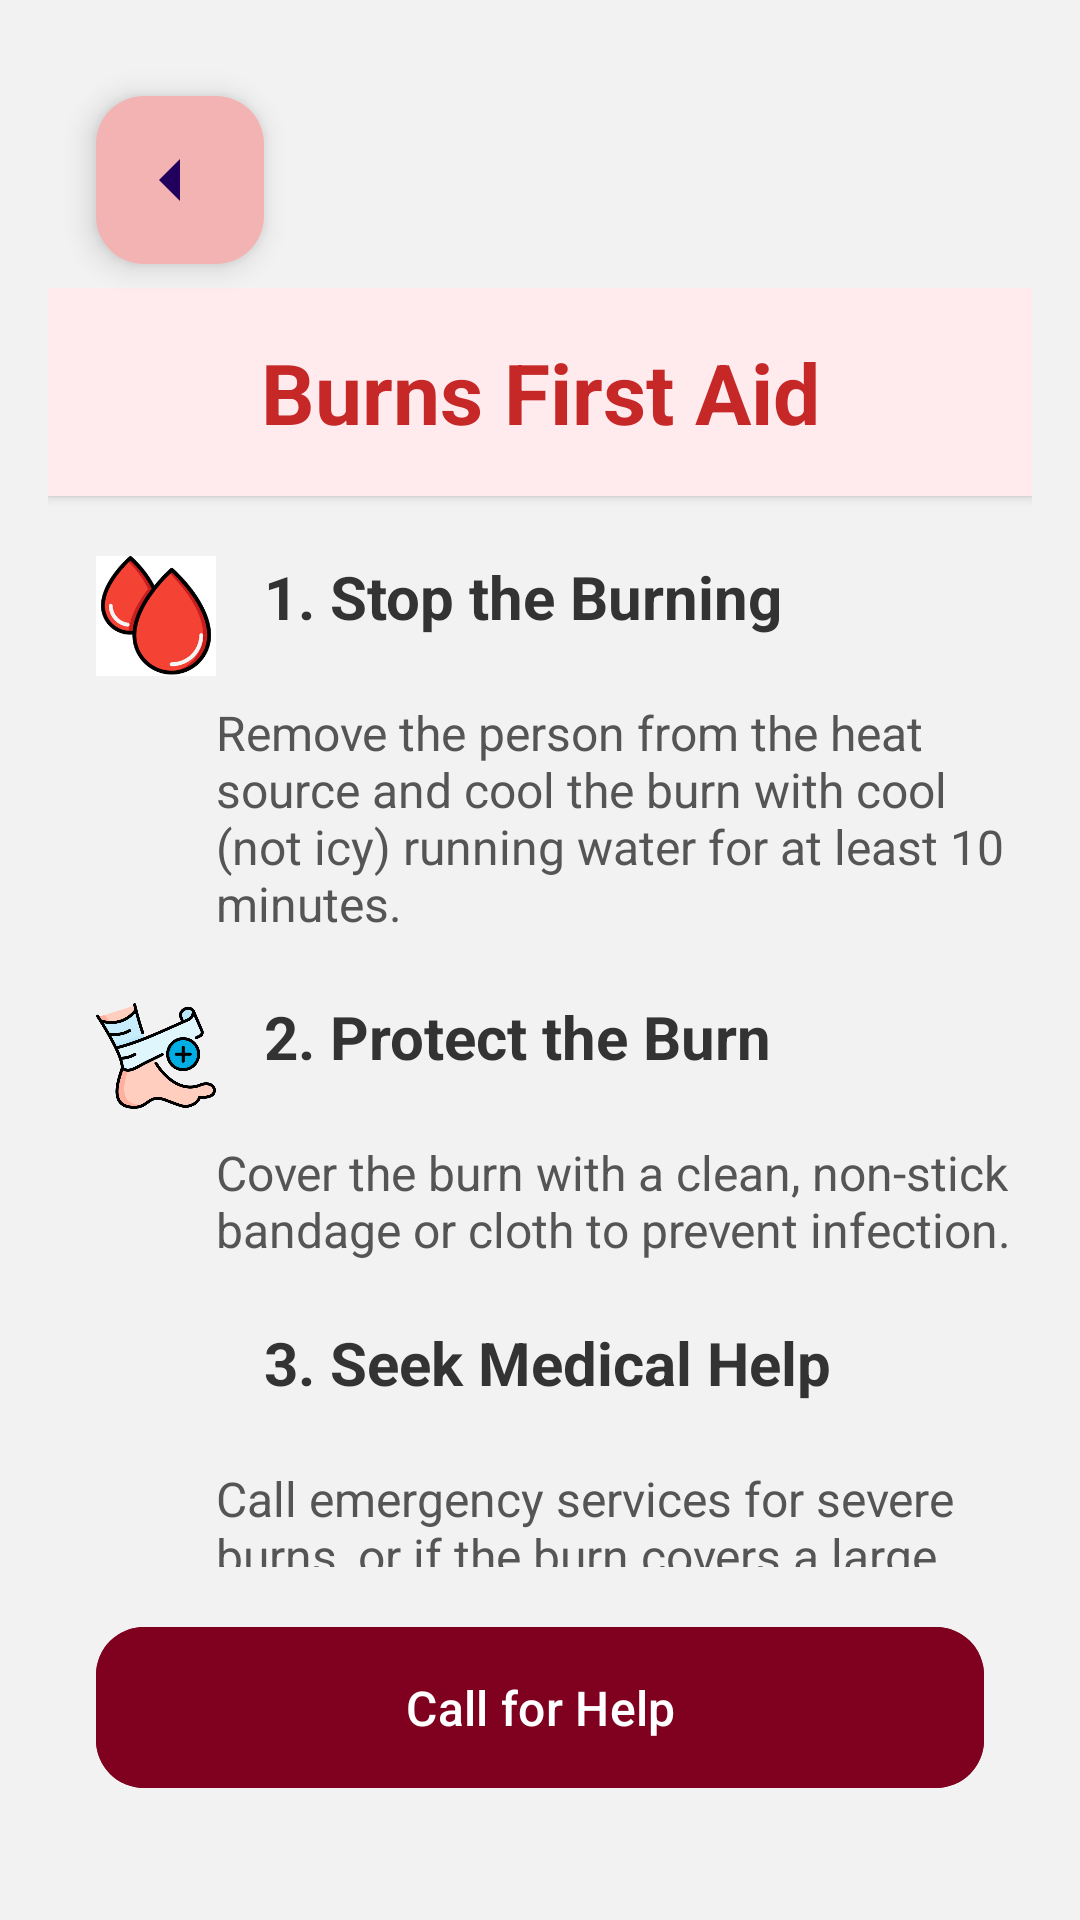

Named icons in this screenshot (1080px x 1920px) and their bounding boxes, (x1=x1, y1=y1, x2=x2, y2=y2):
Back Button: (x1=96, y1=96, x2=264, y2=264)
Clean the Wound Icon: (x1=96, y1=1003, x2=216, y2=1109)
Stop the Bleeding Icon: (x1=101, y1=556, x2=211, y2=675)
